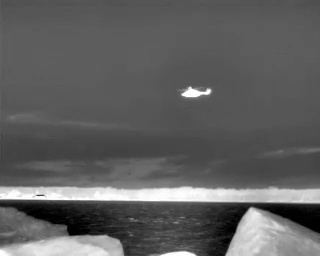HELICOPTER: (174, 80, 217, 104)
